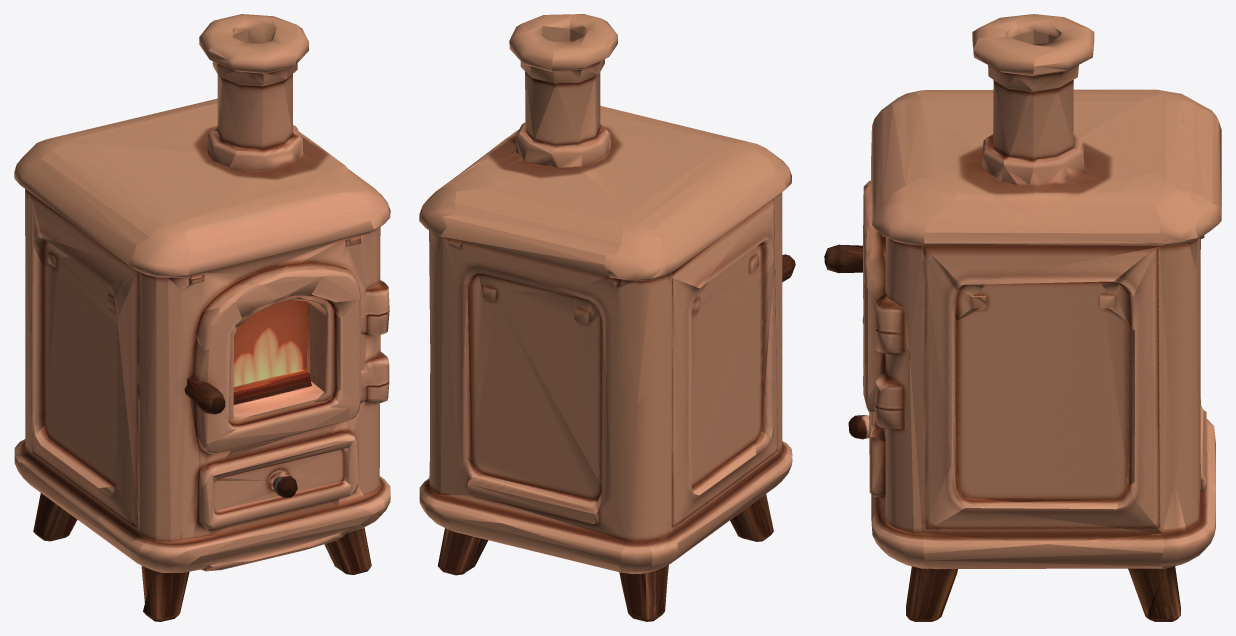
Rendered from hearth_stove.glb.
The picture shows the model from 3 angles, left to right: view 1: azimuth 30°, elevation 25°; view 2: azimuth 150°, elevation 25°; view 3: azimuth 270°, elevation 25°; orthographic projection. The views are drawn at different scales.
Visible parts, largest first — view 1: Mesh_0; view 2: Mesh_0; view 3: Mesh_0.
Part boxes in pixels (box(x1,y1,x2,y2)): Mesh_0: box(14, 14, 390, 621); Mesh_0: box(419, 14, 795, 621); Mesh_0: box(824, 14, 1221, 621).
Bounding box in the file's own units: 0.9972 × 1.9 × 1.23.
Materials: 1 (1 with a texture image).
